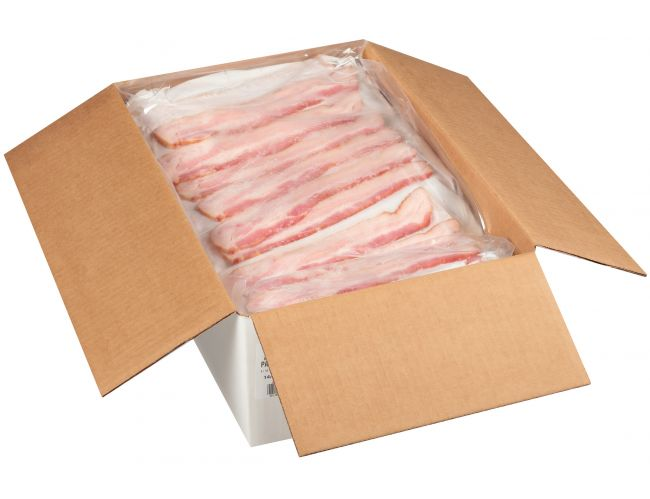bacon: (154, 82, 424, 295)
